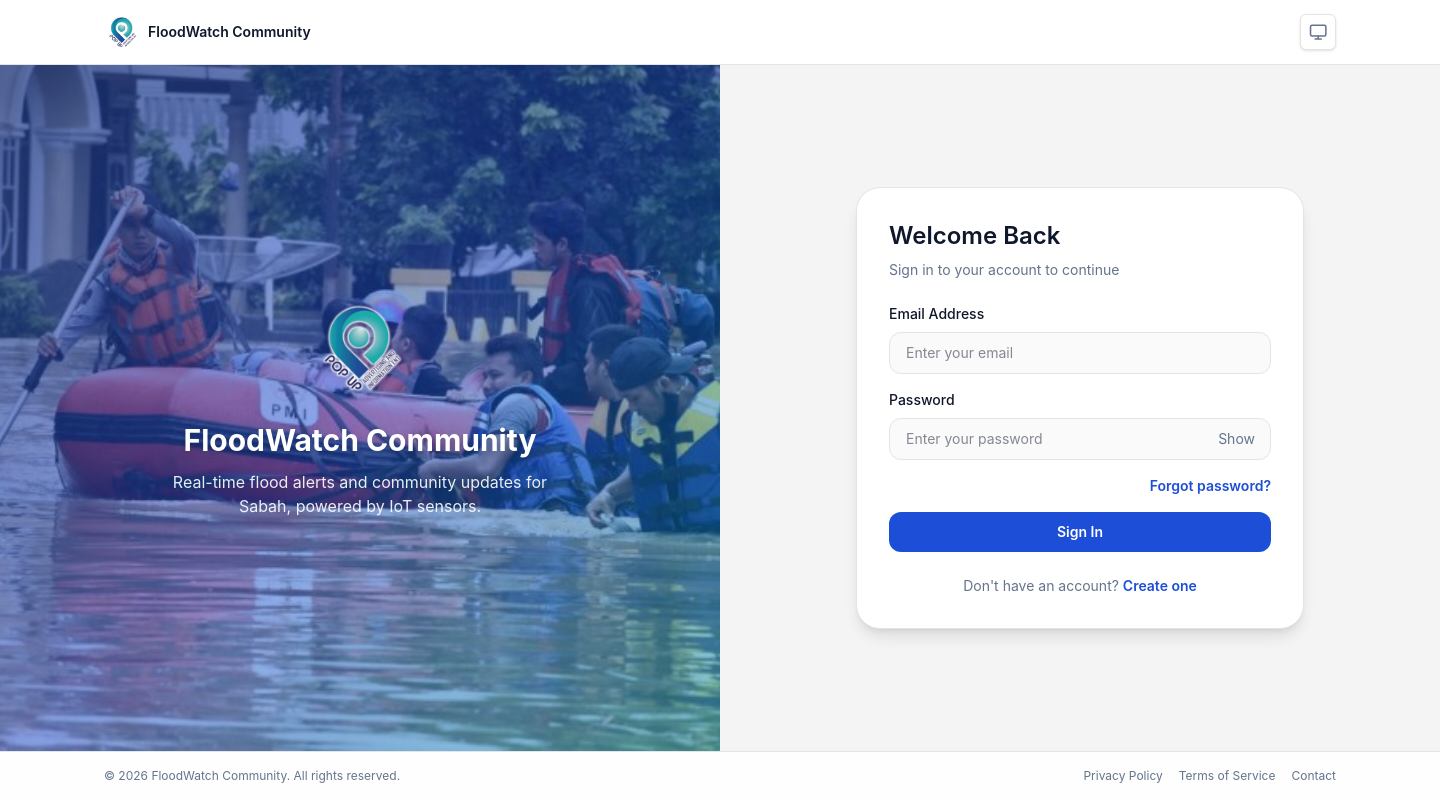
Test: Community · login › toggles password visibility
This screenshot has width=1440, height=800.
Type "Secret123" into the password field labelled "Password" at (1080, 439), box x1=889 y1=418 x2=1271 y2=460
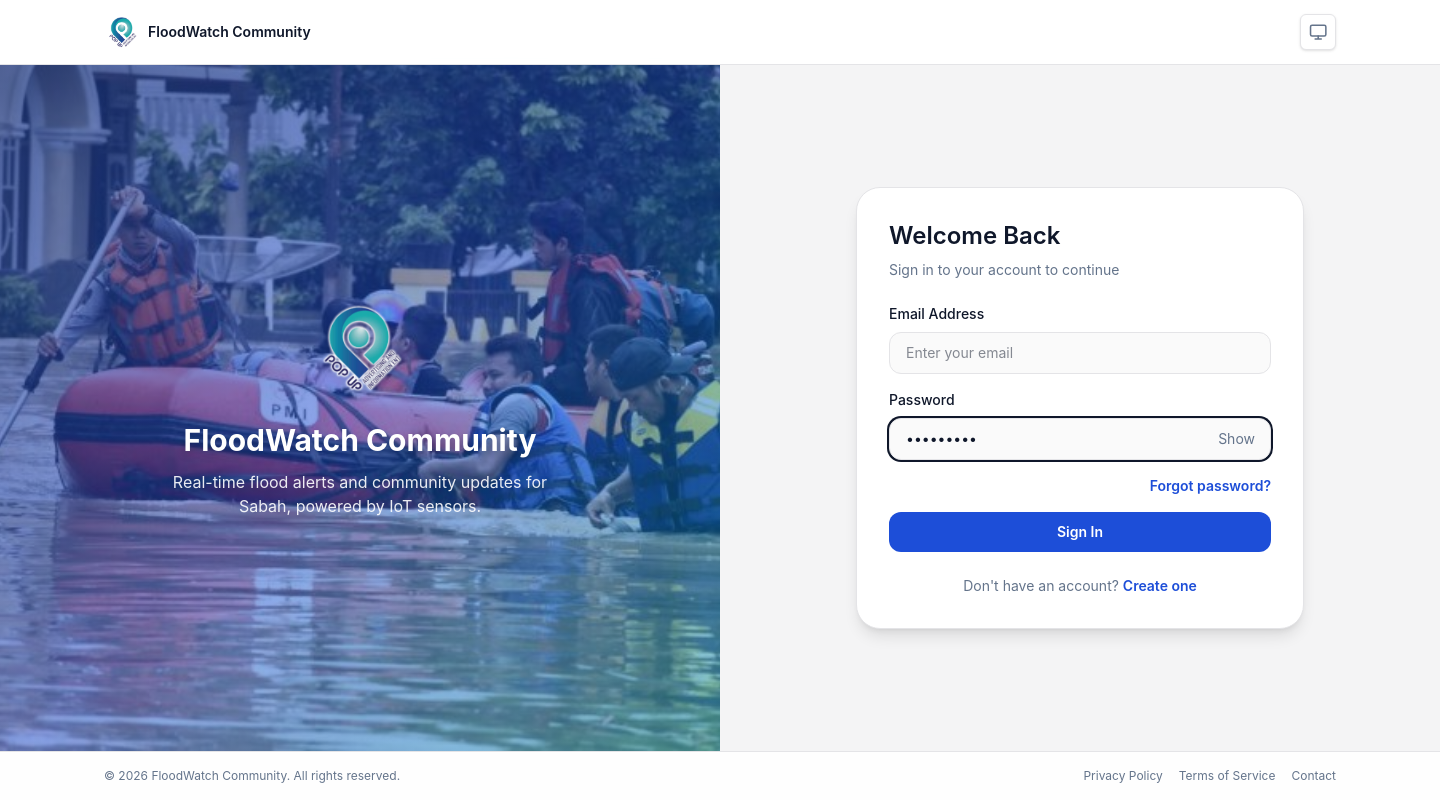
Click the button with test id "login-pw-toggle" at (1237, 439), box x1=1214 y1=427 x2=1259 y2=451
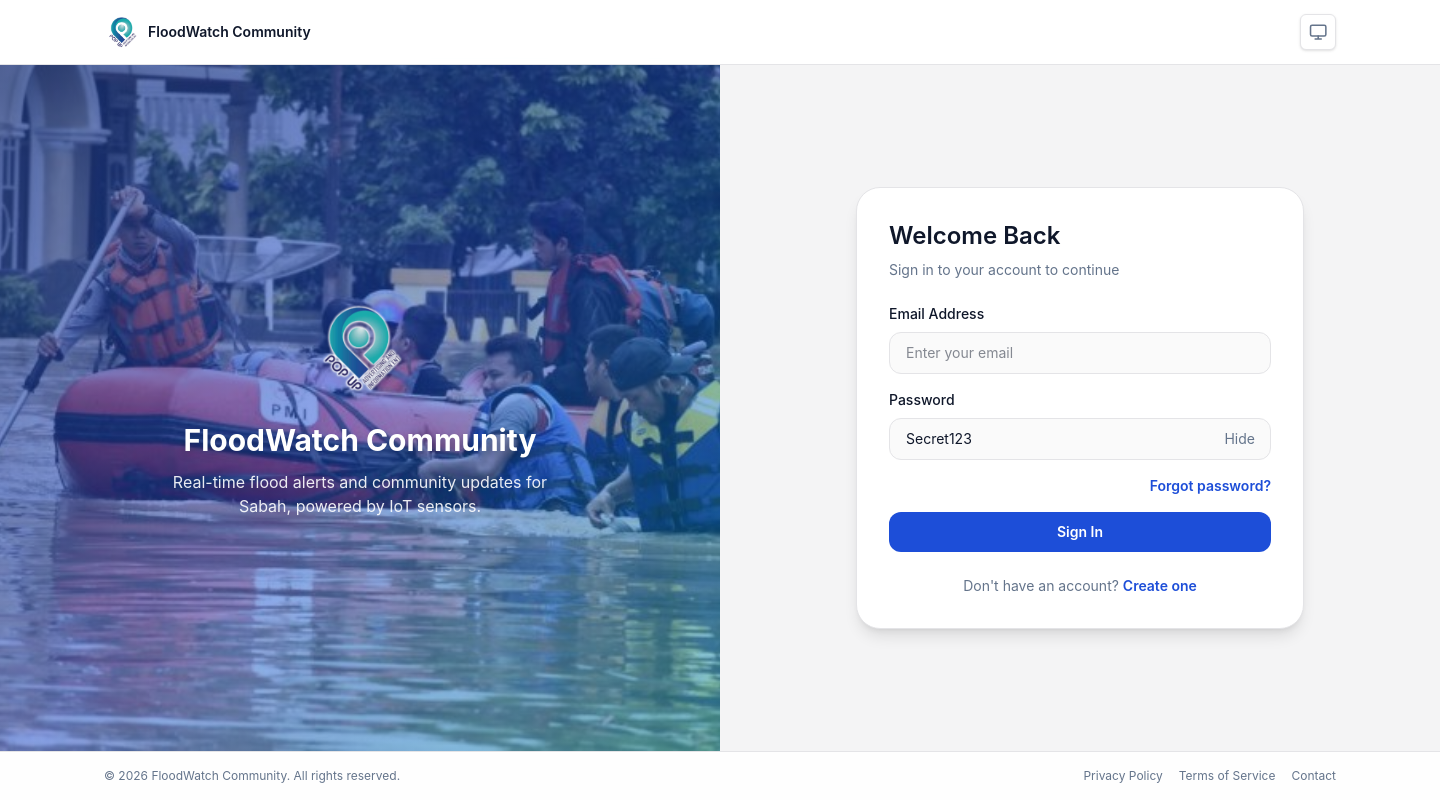
Result: the field labelled "Password" shows its text at x1=889 y1=418 x2=1271 y2=460
Click the button with test id "login-pw-toggle" at (1241, 439), box x1=1221 y1=427 x2=1260 y2=451
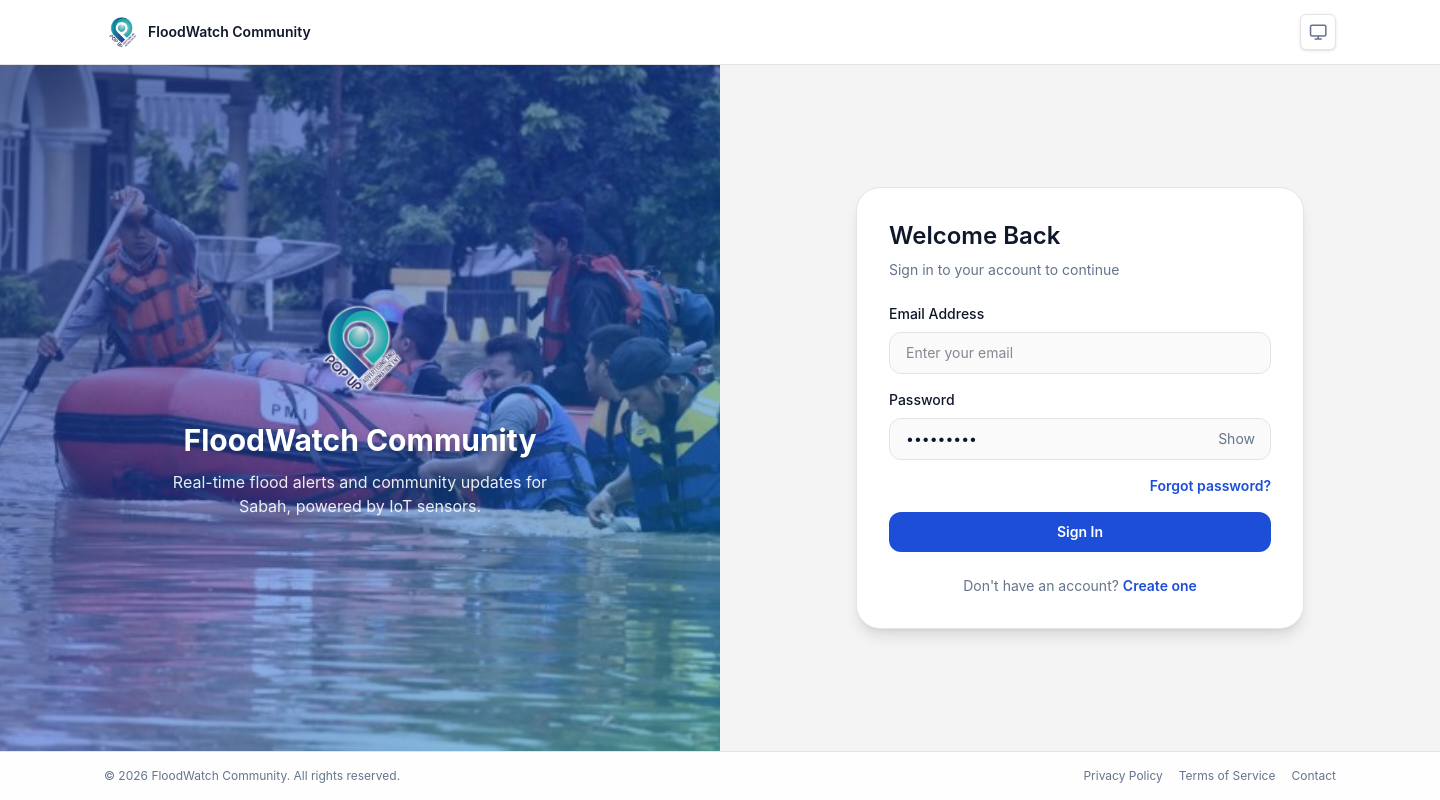
Result: the password field labelled "Password" hides its text at x1=889 y1=418 x2=1271 y2=460
